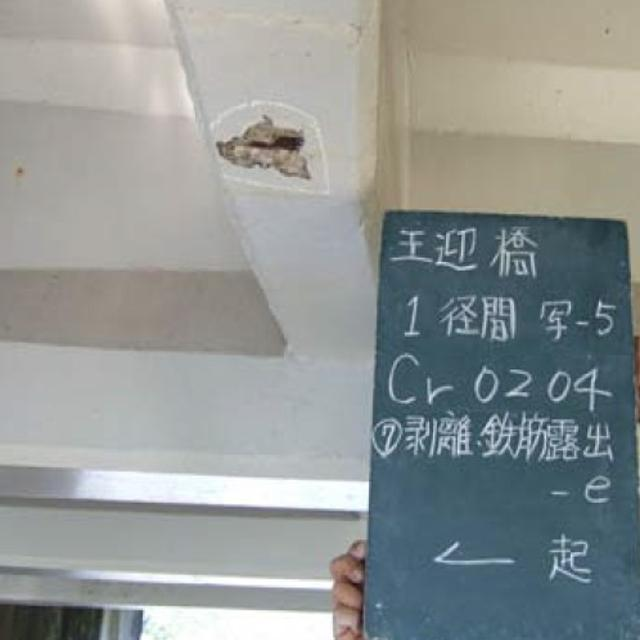spalling: (204, 101, 329, 210)
